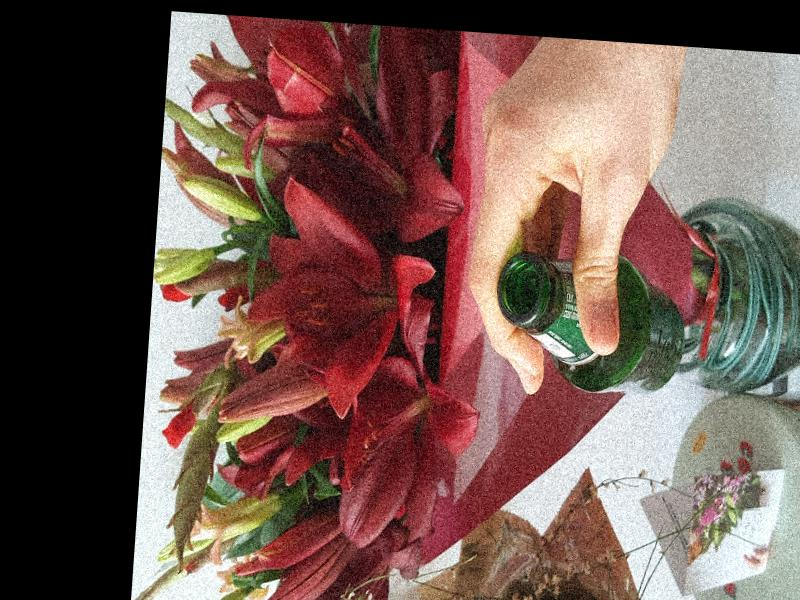Beer: (490, 245, 689, 398)
